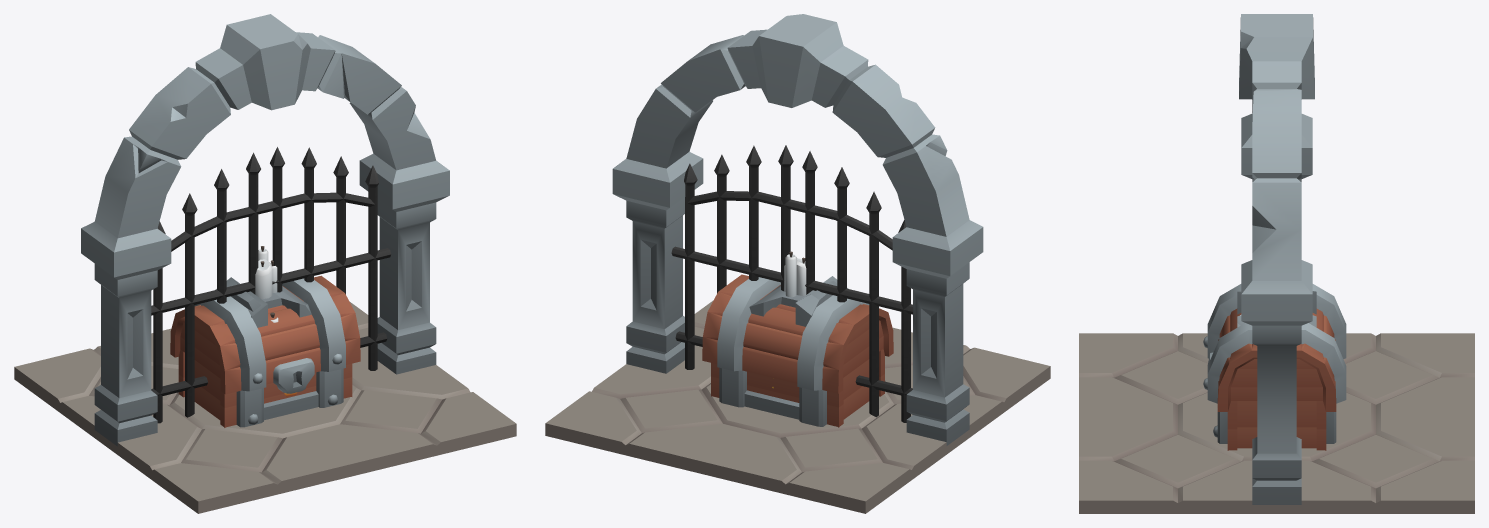
Rendered from vault.glb.
The picture shows the model from 3 angles, left to right: view 1: azimuth 30°, elevation 25°; view 2: azimuth 150°, elevation 25°; view 3: azimuth 270°, elevation 25°; orthographic projection. The views are drawn at different scales.
Visible parts, largest first — view 1: Cube.632, floor_tile_large, chest_gold_lid, arch_gate_right, arch_gate_left, Cube.14744, shrine_candles; view 2: Cube.632, floor_tile_large, chest_gold_lid, arch_gate_right, arch_gate_left, Cube.14744, shrine_candles; view 3: floor_tile_large, Cube.632, chest_gold_lid, Cube.14744.
Part boxes in pixels (x1=…): Cube.632: x1=81, y1=14, x2=449, y2=446; floor_tile_large: x1=14, y1=301, x2=516, y2=513; chest_gold_lid: x1=170, y1=275, x2=360, y2=394; arch_gate_right: x1=151, y1=152, x2=267, y2=423; arch_gate_left: x1=264, y1=147, x2=391, y2=370; Cube.14744: x1=178, y1=349, x2=352, y2=427; shrine_candles: x1=215, y1=246, x2=318, y2=420; Cube.632: x1=612, y1=14, x2=983, y2=445; floor_tile_large: x1=545, y1=300, x2=1050, y2=513; chest_gold_lid: x1=702, y1=274, x2=893, y2=393; arch_gate_right: x1=795, y1=151, x2=912, y2=422; arch_gate_left: x1=671, y1=145, x2=798, y2=369; Cube.14744: x1=711, y1=348, x2=884, y2=427; shrine_candles: x1=744, y1=251, x2=848, y2=419; floor_tile_large: x1=1079, y1=333, x2=1474, y2=513; Cube.632: x1=1239, y1=14, x2=1314, y2=504; chest_gold_lid: x1=1203, y1=284, x2=1346, y2=411; Cube.14744: x1=1213, y1=401, x2=1336, y2=450.
Bounding box in the file's own units: 4.22 × 4.81 × 4.
Materials: 2 (2 with a texture image).
